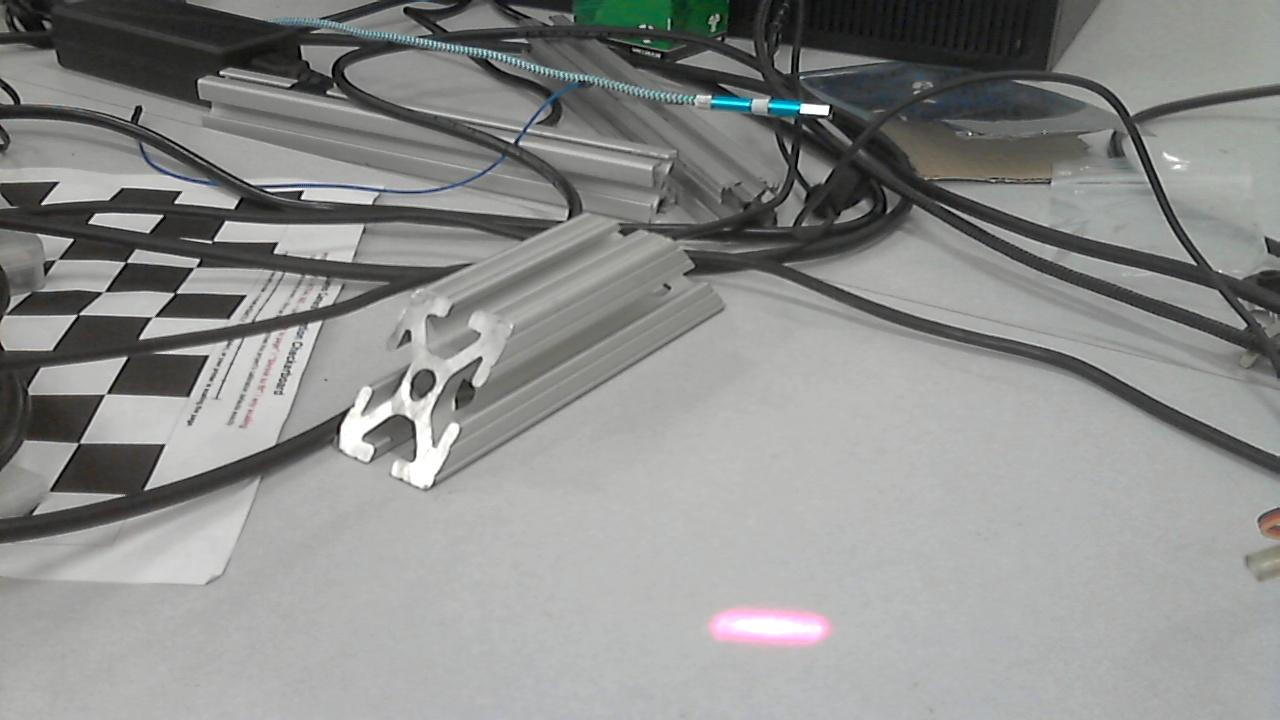Object tabletop - Material composite plastic - Pdfname jhjasdfwat: (709, 599, 829, 651)
